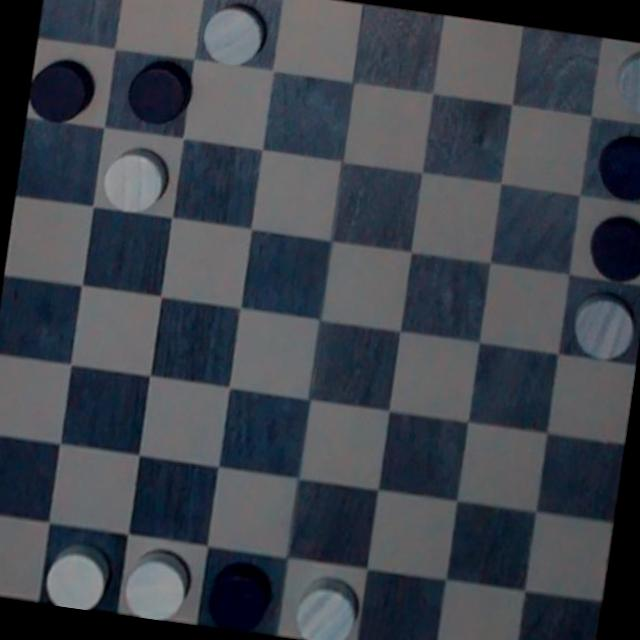BOARD: (0, 0, 640, 640)
black: (22, 46, 104, 144), (200, 549, 286, 637), (119, 48, 197, 133), (579, 208, 640, 289), (587, 128, 640, 205)
white: (97, 139, 179, 230), (563, 288, 640, 373), (36, 537, 118, 613), (199, 0, 282, 75), (117, 546, 195, 624), (288, 567, 363, 640), (603, 38, 640, 127)
